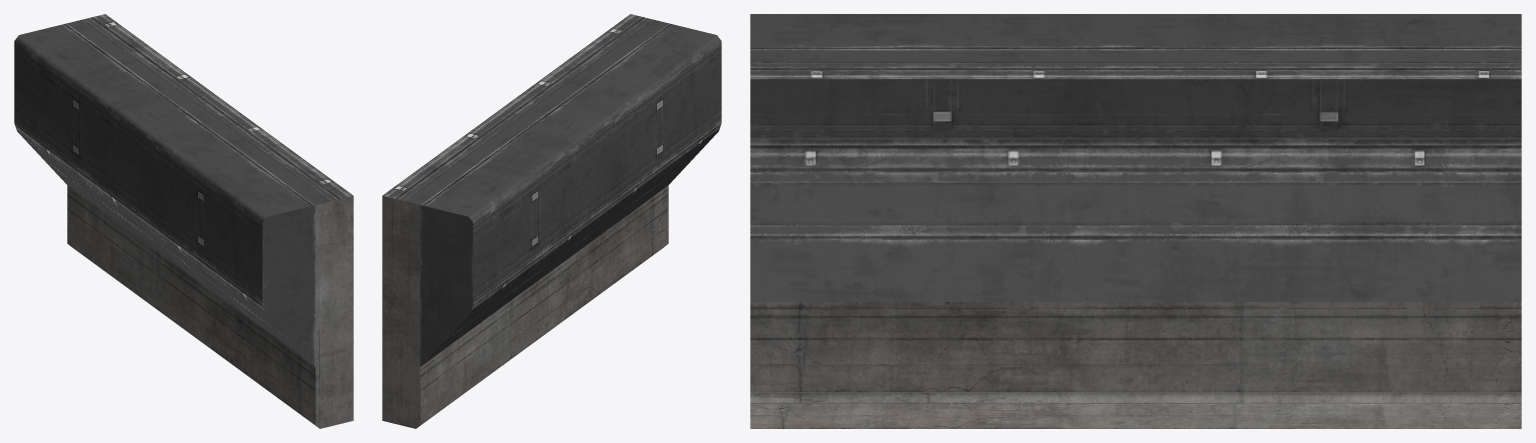
Rendered from CP_Service_Overhang_2m_01.fbx.
3 renders of one model, left to right at view 1: azimuth 30°, elevation 25°; view 2: azimuth 150°, elevation 25°; view 3: azimuth 270°, elevation 25°, orthographic. The views are drawn at different scales.
Parts seen in each view (by area): view 1: CP_Service_Overhang_2m_01; view 2: CP_Service_Overhang_2m_01; view 3: CP_Service_Overhang_2m_01.
Boxes of the visible parts, box(x1,y1,x2,y2) form: CP_Service_Overhang_2m_01: box(14, 14, 353, 428); CP_Service_Overhang_2m_01: box(382, 14, 721, 428); CP_Service_Overhang_2m_01: box(750, 14, 1521, 428).
Size of the model in its own units: 42.35 by 100 by 200.
